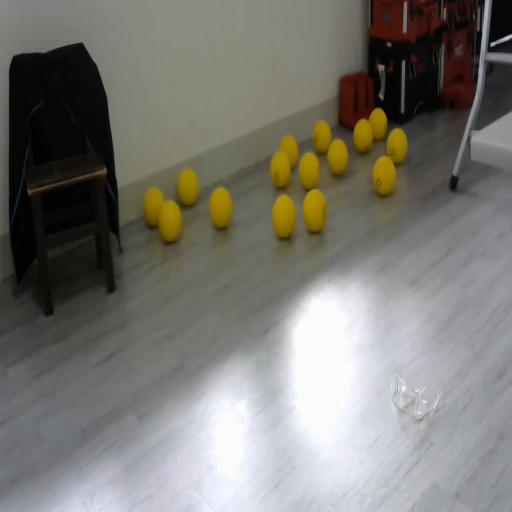FUEL: (271, 192, 297, 240), (302, 188, 327, 232), (208, 185, 233, 229), (372, 155, 396, 196), (143, 186, 165, 227), (298, 151, 320, 190), (327, 138, 349, 176), (177, 168, 199, 206), (386, 128, 408, 164), (278, 134, 298, 170), (353, 118, 373, 153), (312, 120, 332, 154), (368, 107, 388, 140)
